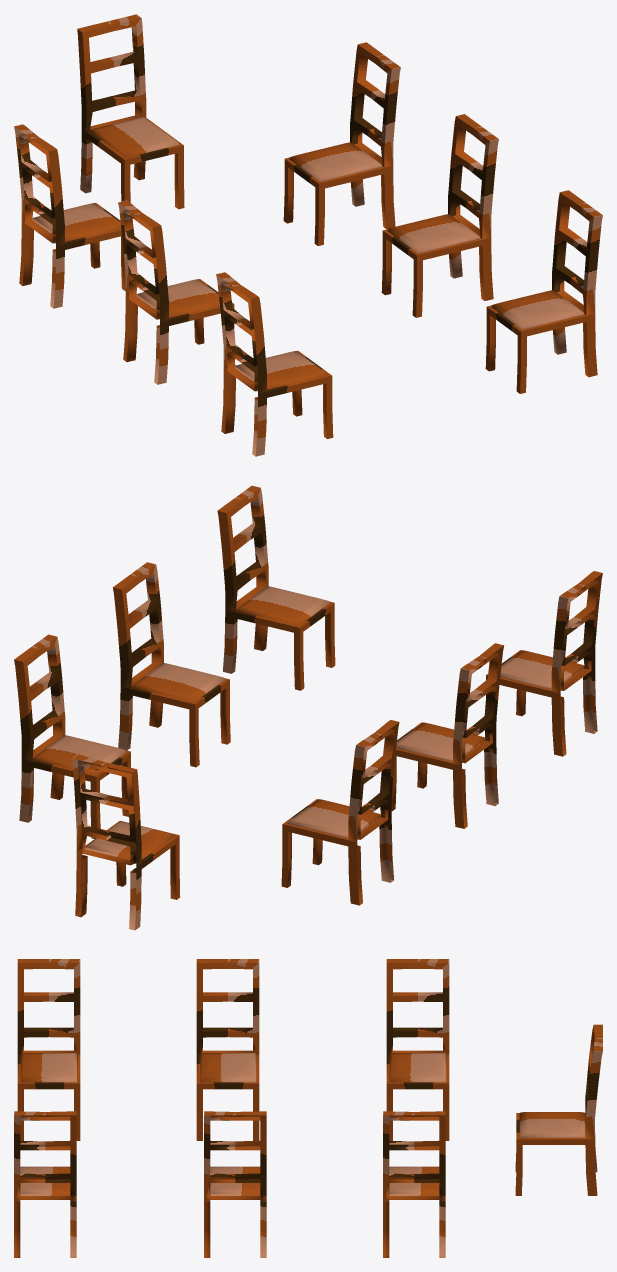
The model's file is Chairs.obj.
The picture shows the model from 3 angles, top to bottom: view 1: azimuth 30°, elevation 25°; view 2: azimuth 150°, elevation 25°; view 3: azimuth 270°, elevation 25°; orthographic projection. The views are drawn at different scales.
Visible parts, largest first — view 1: Chairs_Plane.002; view 2: Chairs_Plane.002; view 3: Chairs_Plane.002.
Part boxes in pixels (left/top/right/bottom): Chairs_Plane.002: left=14, top=14, right=602, bottom=456; Chairs_Plane.002: left=14, top=485, right=602, bottom=930; Chairs_Plane.002: left=14, top=959, right=602, bottom=1257.
Bounding box in the file's own units: 11.8 × 5.1 × 18.79.
